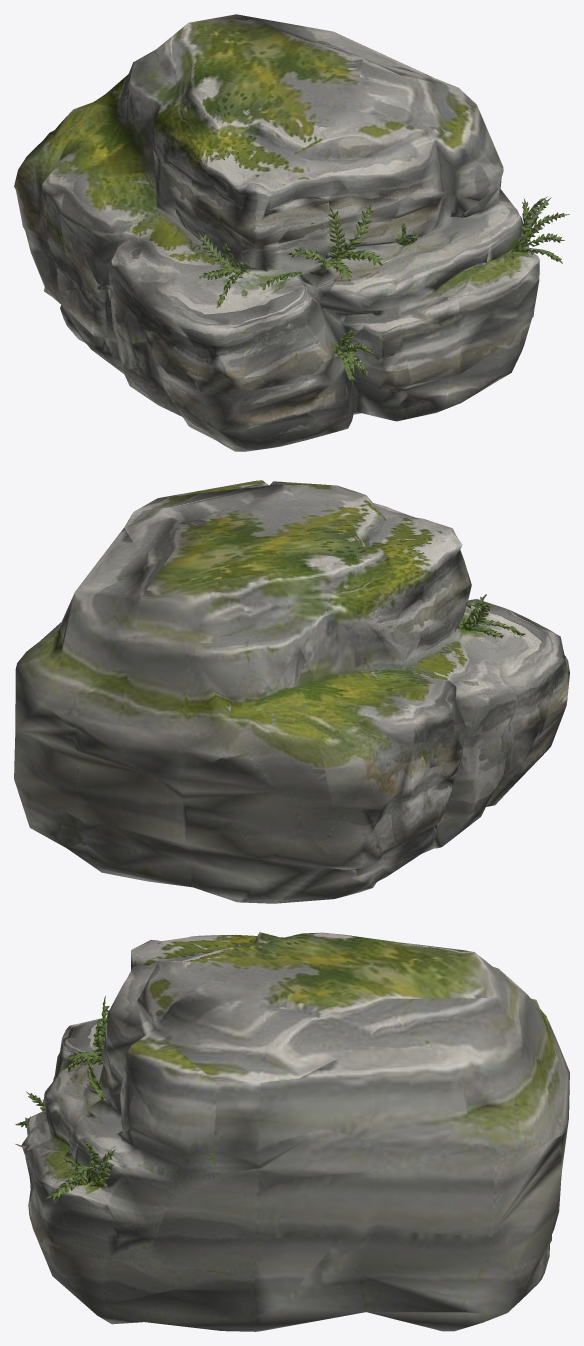
Rendered from pedra4.glb.
The picture shows the model from 3 angles, top to bottom: view 1: azimuth 30°, elevation 25°; view 2: azimuth 150°, elevation 25°; view 3: azimuth 270°, elevation 25°; orthographic projection. The views are drawn at different scales.
Parts seen in each view (by area): view 1: pedra4; view 2: pedra4; view 3: pedra4.
Part boxes in pixels (x1=…): pedra4: x1=14, y1=14, x2=569, y2=451; pedra4: x1=14, y1=480, x2=569, y2=903; pedra4: x1=14, y1=932, x2=569, y2=1331.
Size of the model in its own units: 1.6 by 1.11 by 1.88.
1 material, 1 textured.
